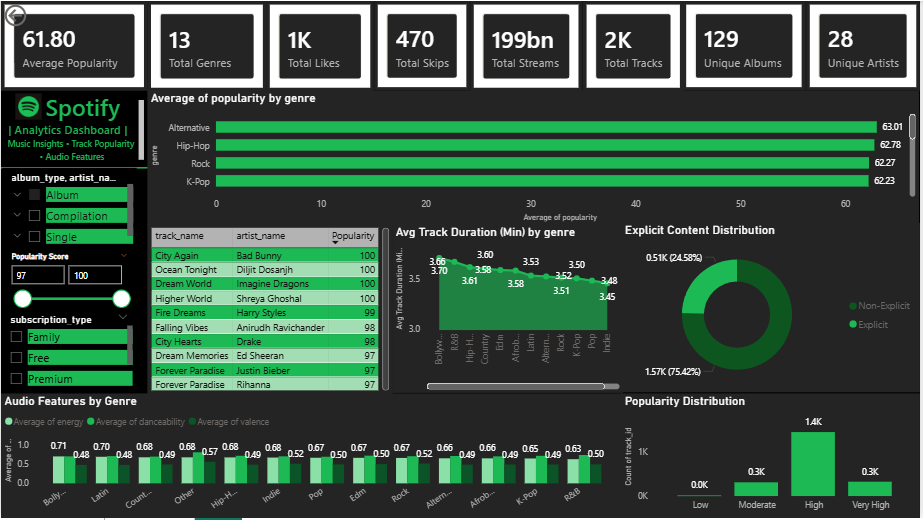

The page's visual inventory and layout, read from the dashboard file:
{"tool":"powerbi","page":{"name":"Page 1","canvas":[1280,720],"ordinal":0},"visuals":[{"type":"cardVisual","fields":{"Data":["Spotify_Data.Average Popularity"]},"box":[0,0,204,126],"z":0},{"type":"cardVisual","fields":{"Data":["Spotify_Data.Total Genres"]},"box":[204,0,166,126],"z":1},{"type":"cardVisual","fields":{"Data":["Spotify_Data.Total Likes"]},"box":[370,0,134,126],"z":2},{"type":"cardVisual","fields":{"Data":["Spotify_Data.Total Skips"]},"box":[504.2,0,135,125.1],"z":3},{"type":"cardVisual","fields":{"Data":["Spotify_Data.Total Streams"]},"box":[638,0,156,126],"z":4},{"type":"cardVisual","fields":{"Data":["Spotify_Data.Total Tracks"]},"box":[794,0,142,126],"z":5},{"type":"cardVisual","fields":{"Data":["Spotify_Data.Unique Albums"]},"box":[935.3,0,172.5,125.5],"z":6},{"type":"cardVisual","fields":{"Data":["Spotify_Data.Unique Artists"]},"box":[1108,0,172,126],"z":7},{"type":"clusteredBarChart","fields":{"Category":["Spotify_Data.genre"],"Y":["Avg(Spotify_Data.popularity)"]},"box":[0,125.6,1280,185.6],"z":8},{"type":"clusteredColumnChart","title":"Popularity Distribution","fields":{"Category":["Spotify_Data.Popularity Category"],"Y":["Count(Spotify_Data.track_id)"]},"box":[864,546,416,174],"z":9},{"type":"donutChart","title":"Explicit Content Distribution","fields":{"Category":["Spotify_Data.Explicit Label"],"Y":["Count(Spotify_Data.track_id)"]},"box":[864,310,416,236],"z":10},{"type":"clusteredColumnChart","title":"Audio Features by Genre","fields":{"Category":["Spotify_Data.genre"],"Y":["Avg(Spotify_Data.energy)","Avg(Spotify_Data.danceability)","Avg(Spotify_Data.valence)"]},"box":[0,546,866,174],"z":11},{"type":"tableEx","fields":{"Values":["Top10Tracks.track_name","Top10Tracks.artist_name","Sum(Top10Tracks.Popularity Score)"]},"box":[0,310,341.7,236.7],"z":13},{"type":"actionButton","box":[0,0,100,40],"z":14},{"type":"lineChart","fields":{"Category":["Spotify_Data.genre"],"Y":["Spotify_Data.Avg Track Duration (Min)"]},"box":[342,312,524,234],"z":15}]}

Visuals, with their boxes in screenshot pixels (x1, y1, x2, y2), scaled from the page's 1280x720 canvas onto the 923x520 screenshot:
cardVisual - Spotify_Data.Average Popularity: (0, 0, 147, 91)
cardVisual - Spotify_Data.Total Genres: (147, 0, 267, 91)
cardVisual - Spotify_Data.Total Likes: (267, 0, 363, 91)
cardVisual - Spotify_Data.Total Skips: (364, 0, 461, 90)
cardVisual - Spotify_Data.Total Streams: (460, 0, 573, 91)
cardVisual - Spotify_Data.Total Tracks: (573, 0, 675, 91)
cardVisual - Spotify_Data.Unique Albums: (674, 0, 799, 91)
cardVisual - Spotify_Data.Unique Artists: (799, 0, 922, 91)
clusteredBarChart - Spotify_Data.genre x Avg(Spotify_Data.popularity): (0, 91, 922, 225)
"Popularity Distribution" clusteredColumnChart: (623, 394, 922, 519)
"Explicit Content Distribution" donutChart: (623, 224, 922, 394)
"Audio Features by Genre" clusteredColumnChart: (0, 394, 624, 519)
tableEx - Top10Tracks.track_name x Top10Tracks.artist_name: (0, 224, 246, 395)
actionButton: (0, 0, 72, 29)
lineChart - Spotify_Data.genre x Spotify_Data.Avg Track Duration (Min): (247, 225, 624, 394)
